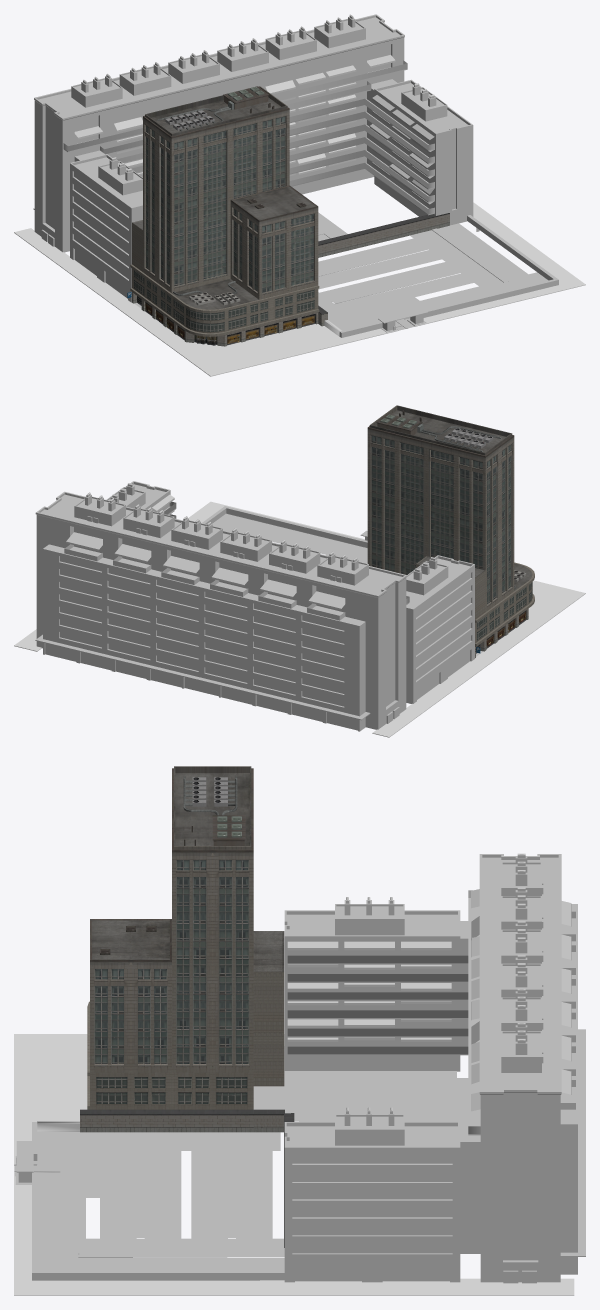
The picture shows the model from 3 angles, top to bottom: view 1: azimuth 30°, elevation 25°; view 2: azimuth 150°, elevation 25°; view 3: azimuth 270°, elevation 25°; orthographic projection. The views are drawn at different scales.
Parts seen in each view (by area): view 1: LOWRISEMODERNCONDO3, AIT01W2W7, Cube.008, hithepeak.007, hithepeak.009, hithepeak.008, AIT01W2W7.001, hithepeak.010, Cube.010, hithepeak.003, Cube.009, hithepeak.002 (+2 smaller); view 2: LOWRISEMODERNCONDO3, AIT01W2W7, Cube.008, hithepeak.010, hithepeak.003, Cube.010, Cube.009; view 3: LOWRISEMODERNCONDO3, AIT01W2W7, Cube.010, hithepeak.008, hithepeak.007, Cube.008, hithepeak.009, hithepeak.006, hithepeak.010, LOWRISEMODERNCONDO3.004, LOWRISEMODERNCONDO3.003, hithepeak.003 (+7 smaller).
Part boxes in pixels (bbox=[...]): LOWRISEMODERNCONDO3: bbox=[33, 14, 473, 302]; AIT01W2W7: bbox=[127, 86, 327, 346]; Cube.008: bbox=[14, 228, 398, 376]; hithepeak.007: bbox=[319, 262, 473, 313]; hithepeak.009: bbox=[410, 223, 527, 287]; hithepeak.008: bbox=[318, 238, 441, 289]; AIT01W2W7.001: bbox=[318, 213, 449, 257]; hithepeak.010: bbox=[391, 272, 548, 319]; Cube.010: bbox=[473, 202, 577, 282]; hithepeak.003: bbox=[458, 221, 558, 308]; Cube.009: bbox=[407, 278, 585, 326]; hithepeak.002: bbox=[339, 302, 459, 337]; LOWRISEMODERNCONDO3: bbox=[35, 481, 474, 731]; AIT01W2W7: bbox=[367, 405, 534, 657]; Cube.008: bbox=[372, 580, 585, 737]; hithepeak.010: bbox=[212, 513, 367, 559]; hithepeak.003: bbox=[202, 506, 323, 536]; Cube.010: bbox=[14, 507, 217, 651]; Cube.009: bbox=[203, 501, 367, 547]; LOWRISEMODERNCONDO3: bbox=[284, 853, 585, 1283]; AIT01W2W7: bbox=[80, 766, 284, 1132]; Cube.010: bbox=[37, 1278, 574, 1295]; hithepeak.008: bbox=[191, 1150, 272, 1238]; hithepeak.007: bbox=[100, 1150, 181, 1238]; Cube.008: bbox=[14, 1034, 284, 1165]; hithepeak.009: bbox=[78, 1238, 284, 1270]; hithepeak.006: bbox=[37, 1132, 280, 1150]; hithepeak.010: bbox=[37, 1177, 85, 1270]; LOWRISEMODERNCONDO3.004: bbox=[384, 1078, 468, 1121]; LOWRISEMODERNCONDO3.003: bbox=[299, 1078, 386, 1121]; hithepeak.003: bbox=[32, 1204, 259, 1280].
Bounding box in the file's own units: 3.25 × 1.69 × 3.01.
